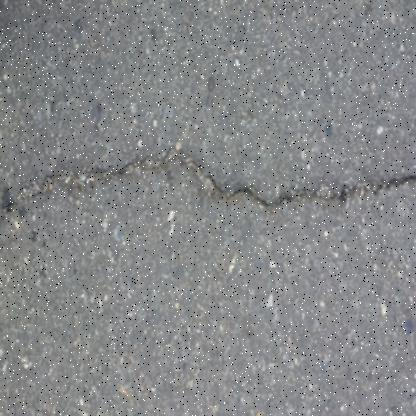Cracks: (0, 138, 415, 253)
